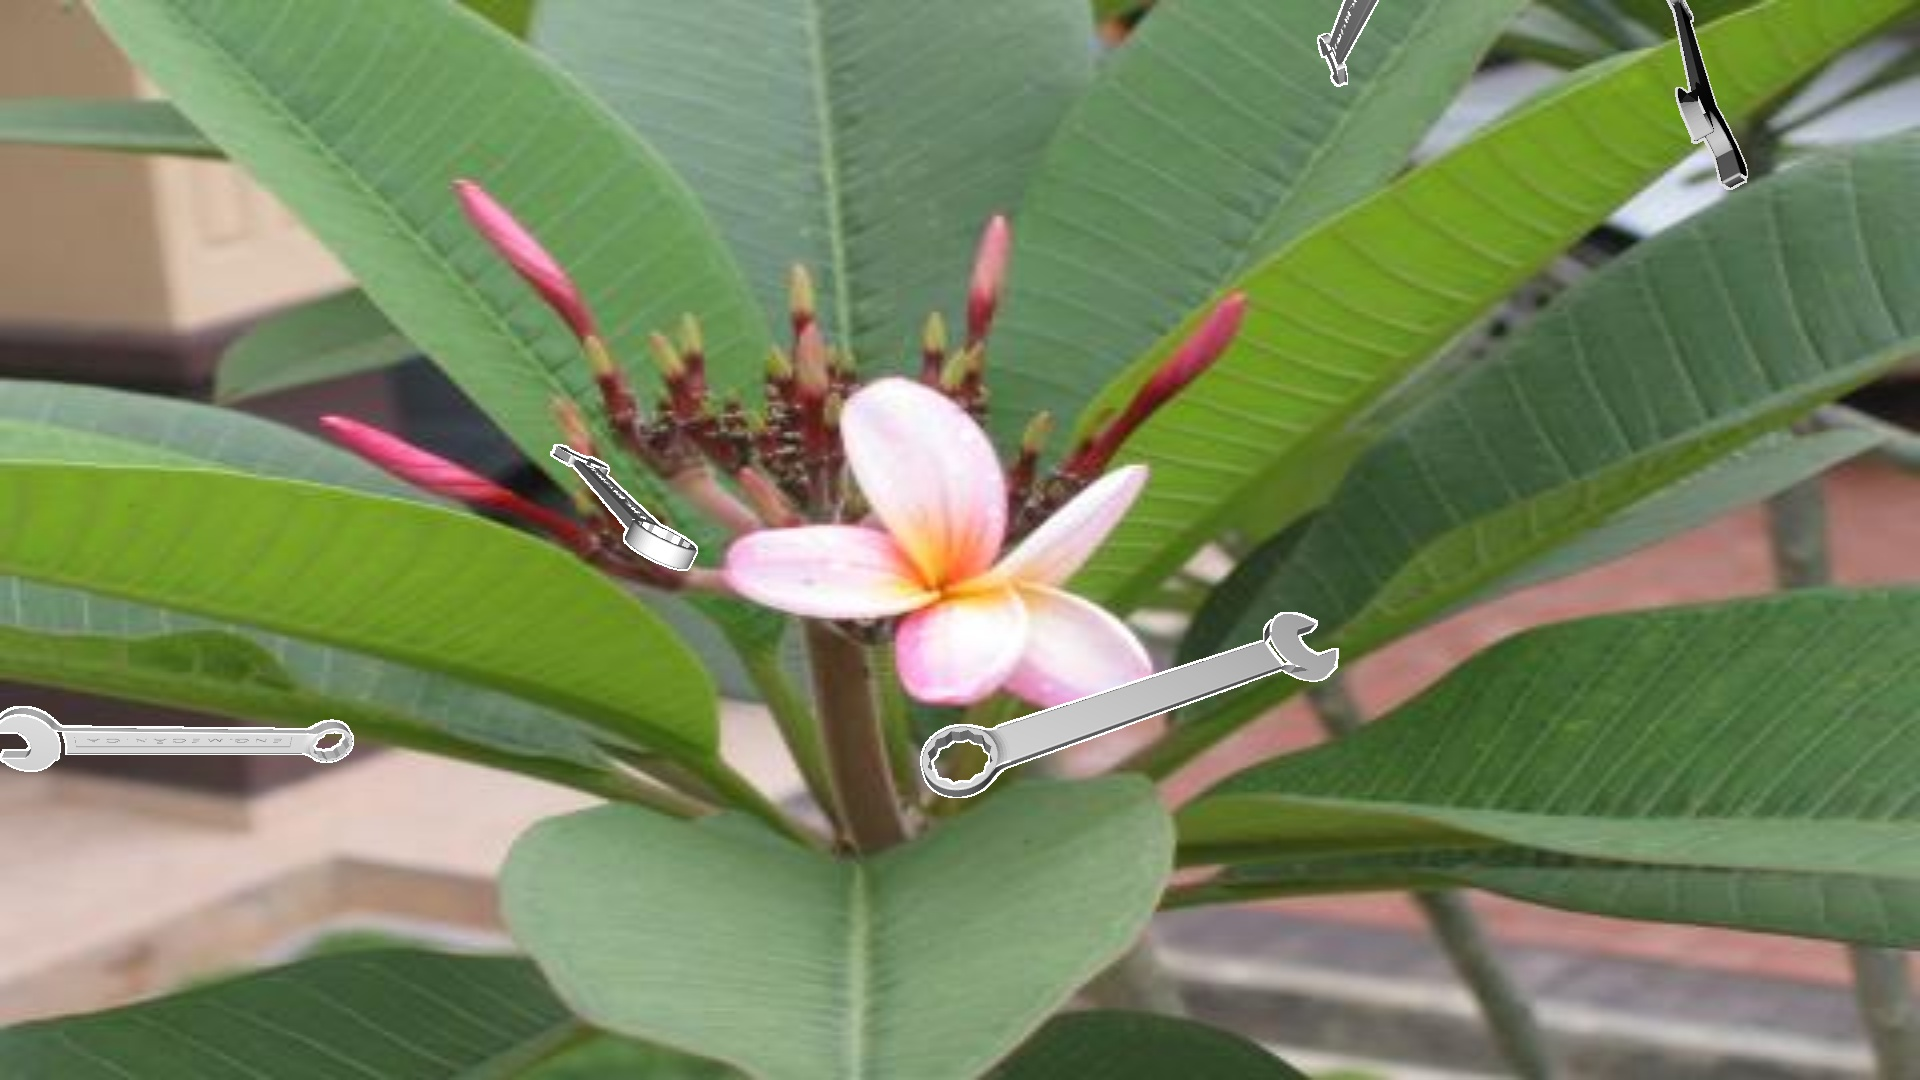Mixed Key: (920, 612, 1338, 796), (0, 705, 353, 771), (550, 444, 698, 570), (1665, 0, 1747, 189), (1317, 0, 1378, 86)
